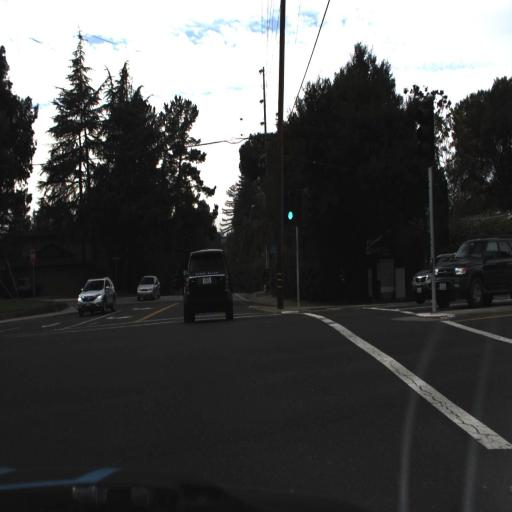car: (430, 236, 510, 307), (182, 242, 235, 322), (409, 245, 461, 305), (76, 274, 120, 317), (134, 273, 161, 300)
trafficLight-Green: (284, 195, 295, 225)
